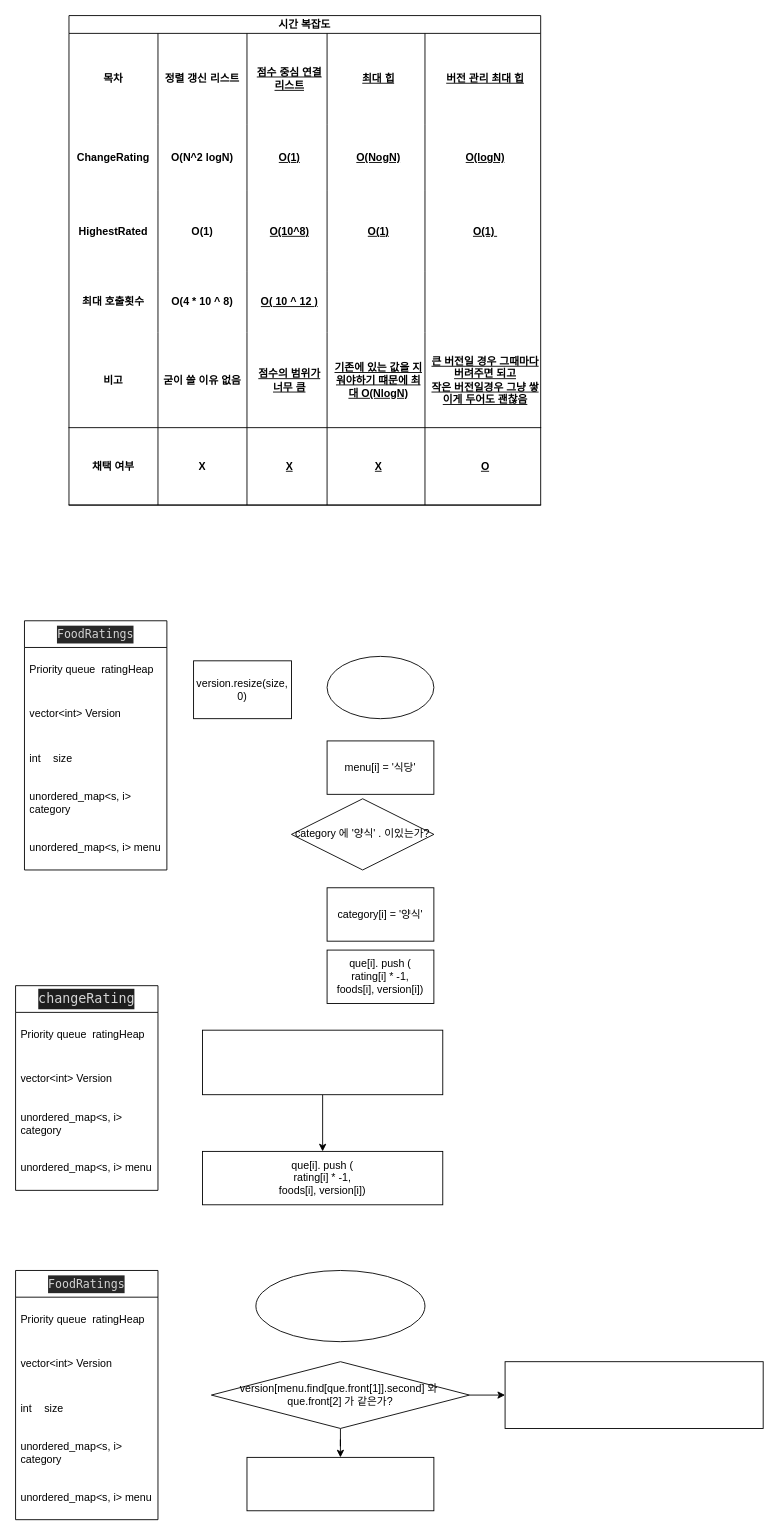
This 779x1535 diagram has some shape labels left out. Here are the shapes that lost their labels. From the top down, the centre of each, then its label:
At (380,687): "size 만큼 반복".
At (322,1062): "version[menu.find[food].second]++".
At (340,1306): "힙이 비어있지 않을떄까지 반복".
At (633,1394): "pop".
At (340,1483): "리턴".
